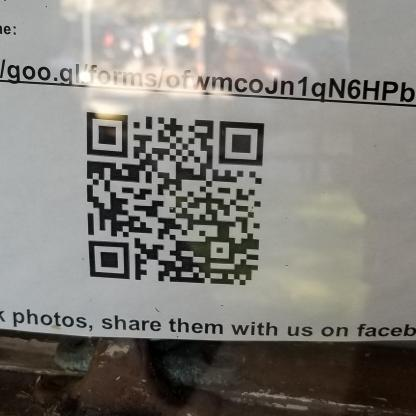qr: (83, 107, 266, 289)
